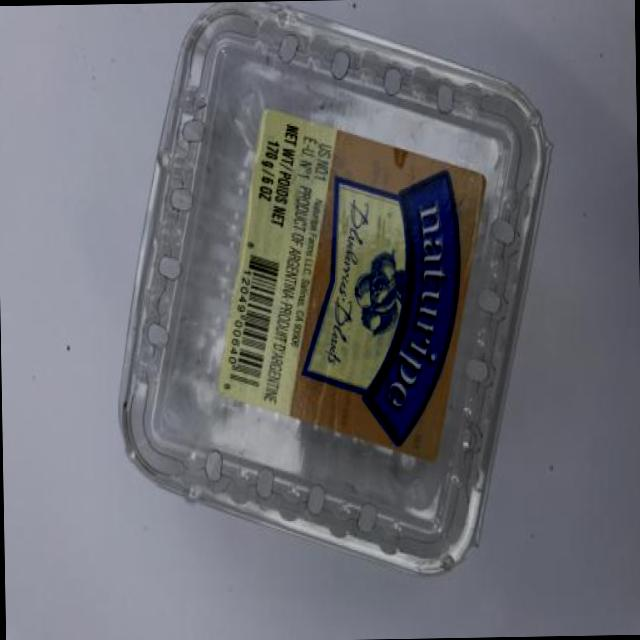Recycle: (110, 0, 560, 580)
